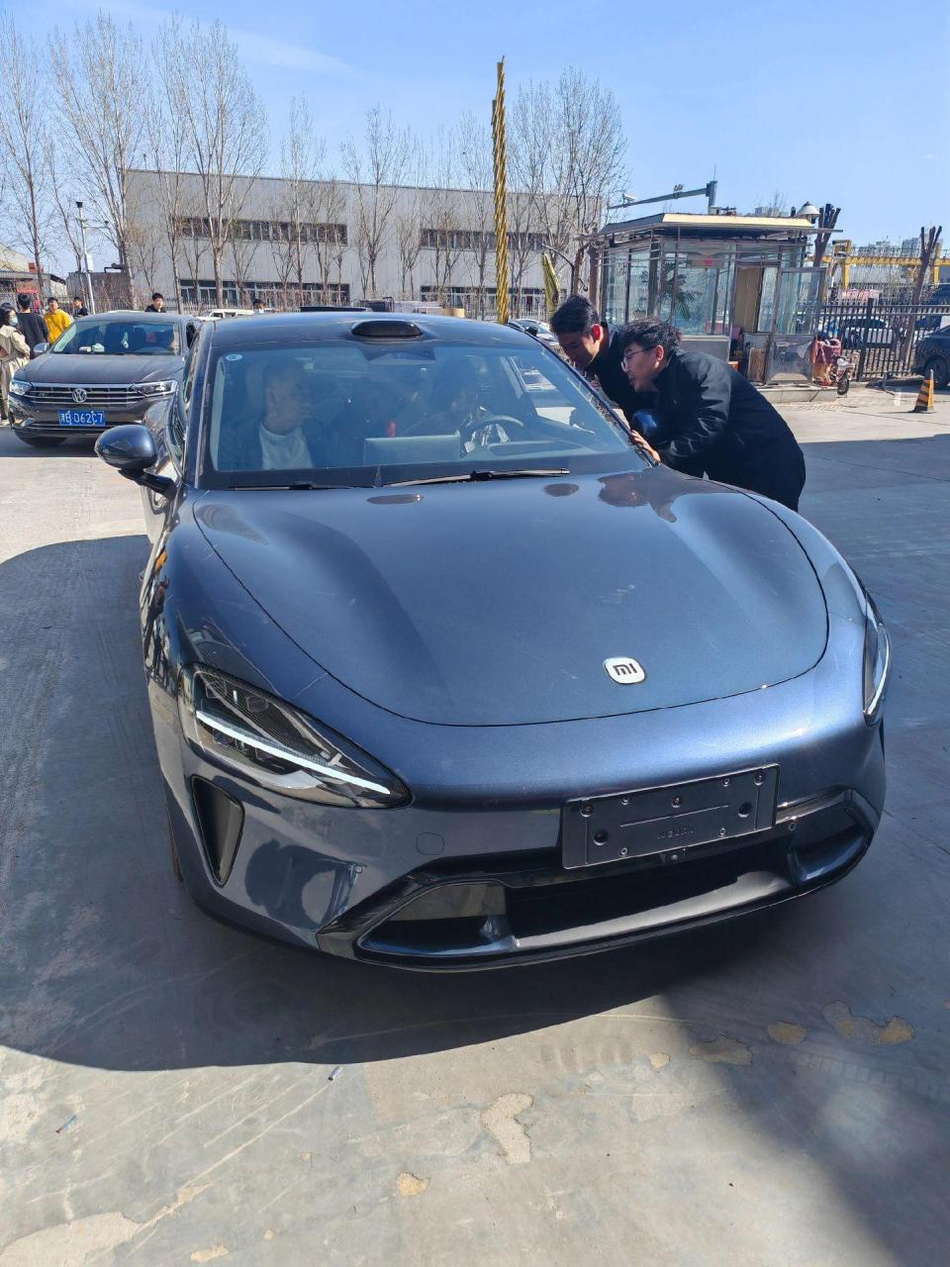other: (17, 299, 196, 461)
su7: (119, 301, 890, 974)
